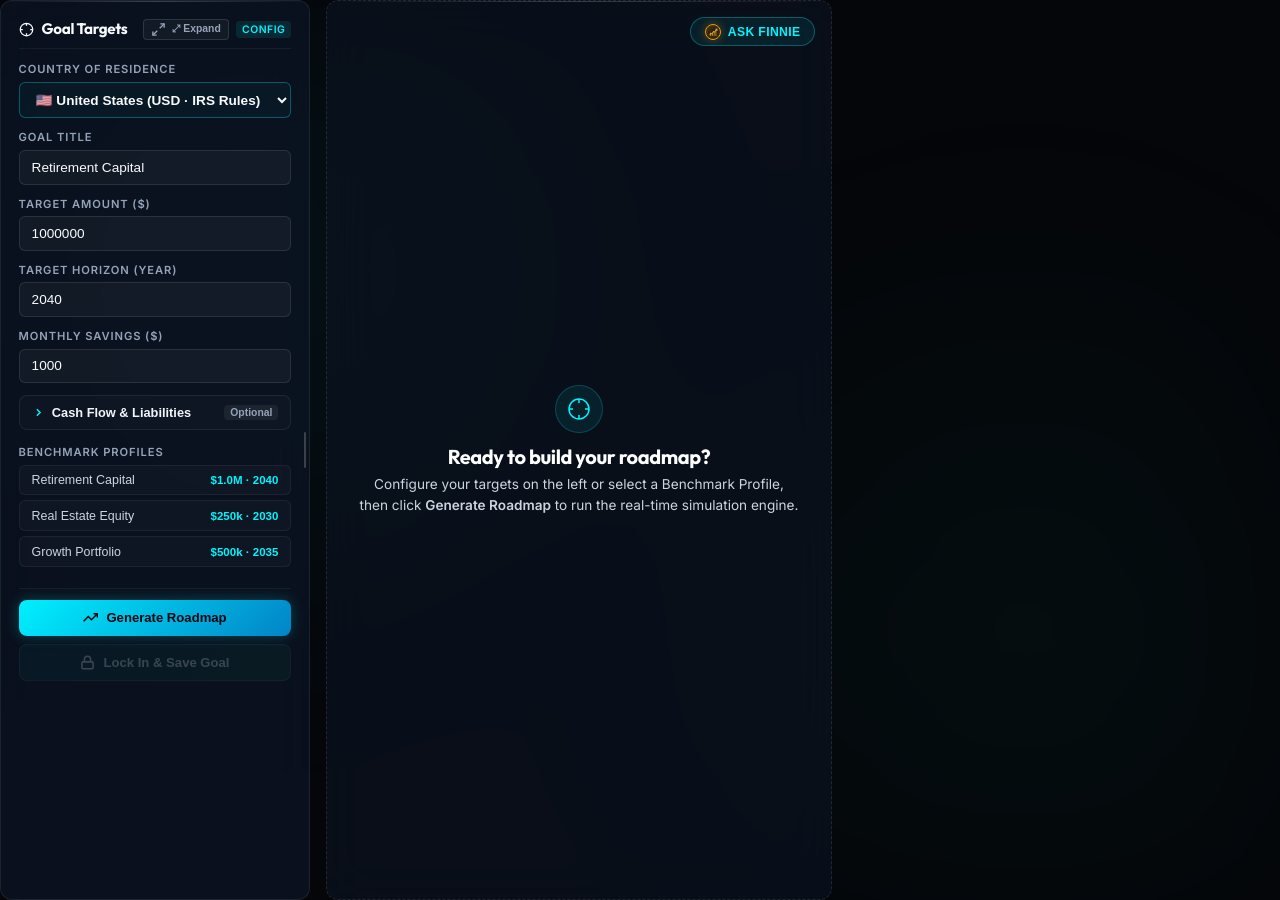
SPEC-11 Liability-Aware Goal Planner Flow Tests › expands Cash Flow & Liabilities accordion and calculates solvency live
expect the button "Generate Roadmap" is shown: met, box [19, 600, 291, 636]
Click accordion header to expand
Click the button "Cash Flow & Liabilities Optional": (155, 412) [20, 396, 290, 429]
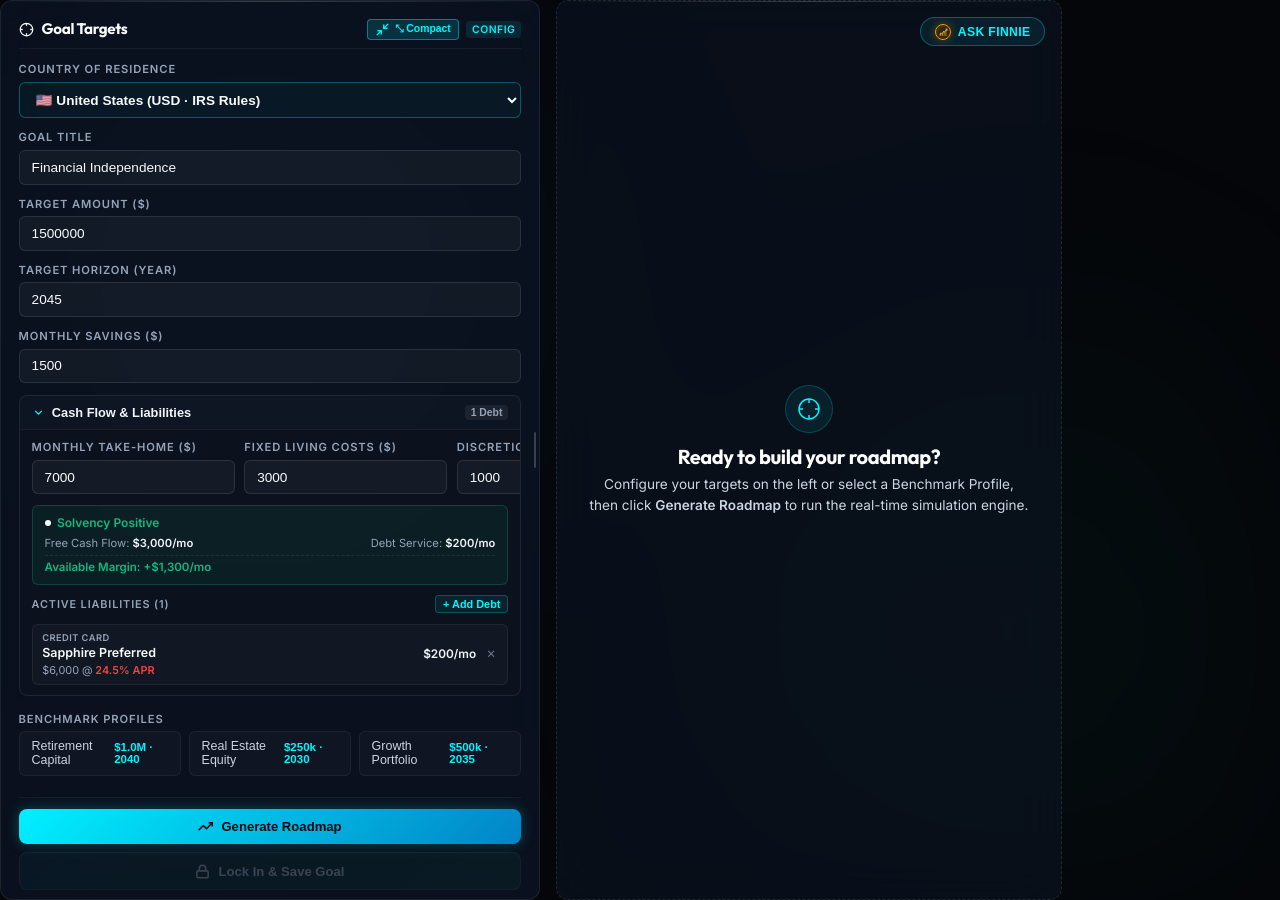
expect the text "Monthly Take-Home ($)" is shown: met, box [32, 440, 197, 454]
expect the text "Active Liabilities (1)" is shown: met, box [32, 598, 170, 612]
